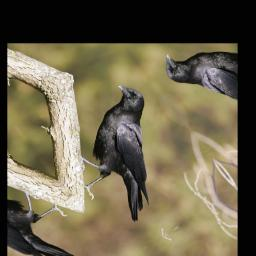Crow: (36, 75, 208, 234)
